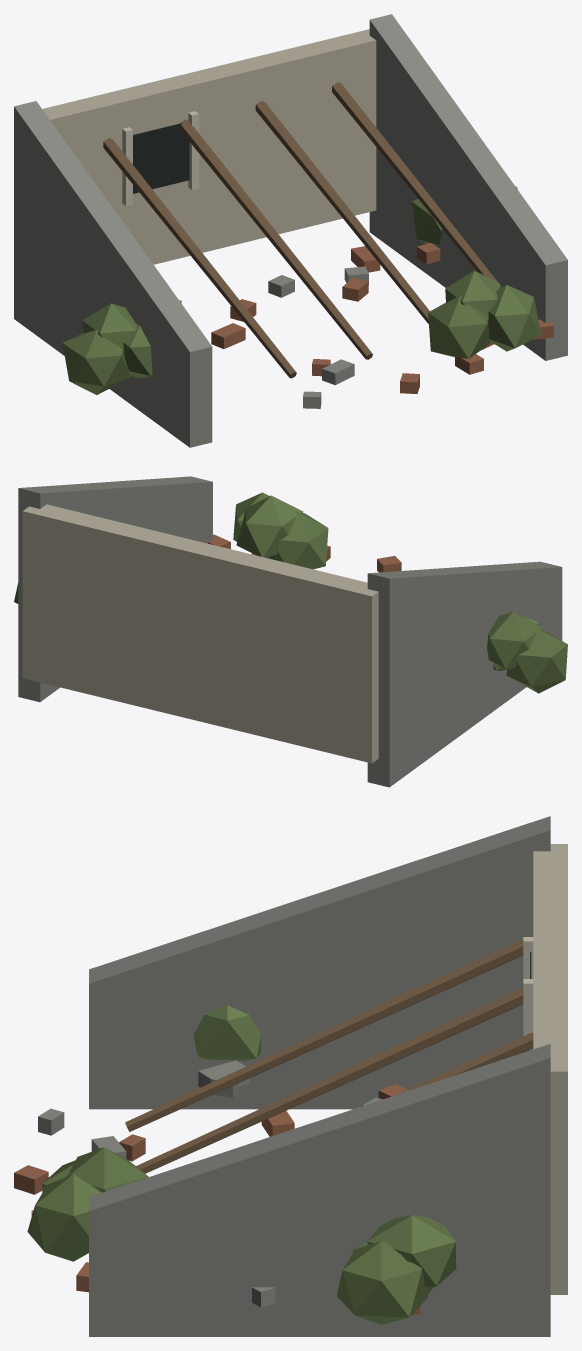
Rendered from ruins.glb.
The picture shows the model from 3 angles, top to bottom: view 1: azimuth 30°, elevation 25°; view 2: azimuth 150°, elevation 25°; view 3: azimuth 270°, elevation 25°; orthographic projection. The views are drawn at different scales.
Visible parts, largest first — view 1: ruins_visual; view 2: ruins_visual; view 3: ruins_visual.
Boxes of the visible parts, x1=… form: ruins_visual: x1=14, y1=14, x2=567, y2=447; ruins_visual: x1=14, y1=476, x2=567, y2=787; ruins_visual: x1=14, y1=816, x2=567, y2=1336.
Size of what is drawn, in the model's own units: 9.86 by 4 by 7.2.
